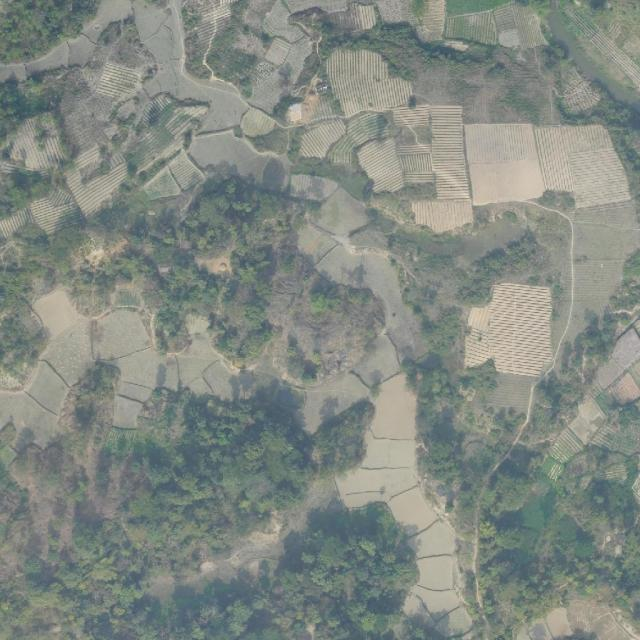greenland: (0, 360, 415, 640), (421, 370, 640, 630), (388, 197, 577, 315), (181, 0, 275, 99), (0, 65, 88, 145), (75, 15, 160, 97), (0, 0, 100, 63), (0, 170, 63, 217)
